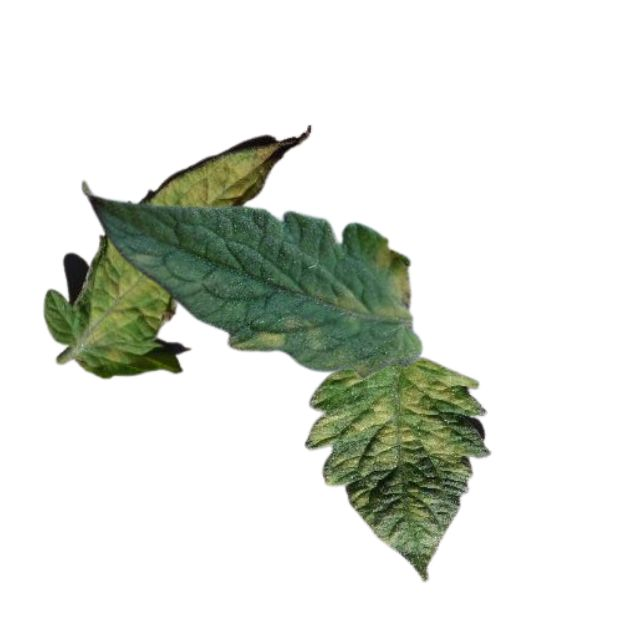Leaf_Mold: (306, 360, 479, 479), (152, 134, 282, 210), (94, 240, 173, 364), (330, 237, 413, 326), (236, 310, 322, 356)
